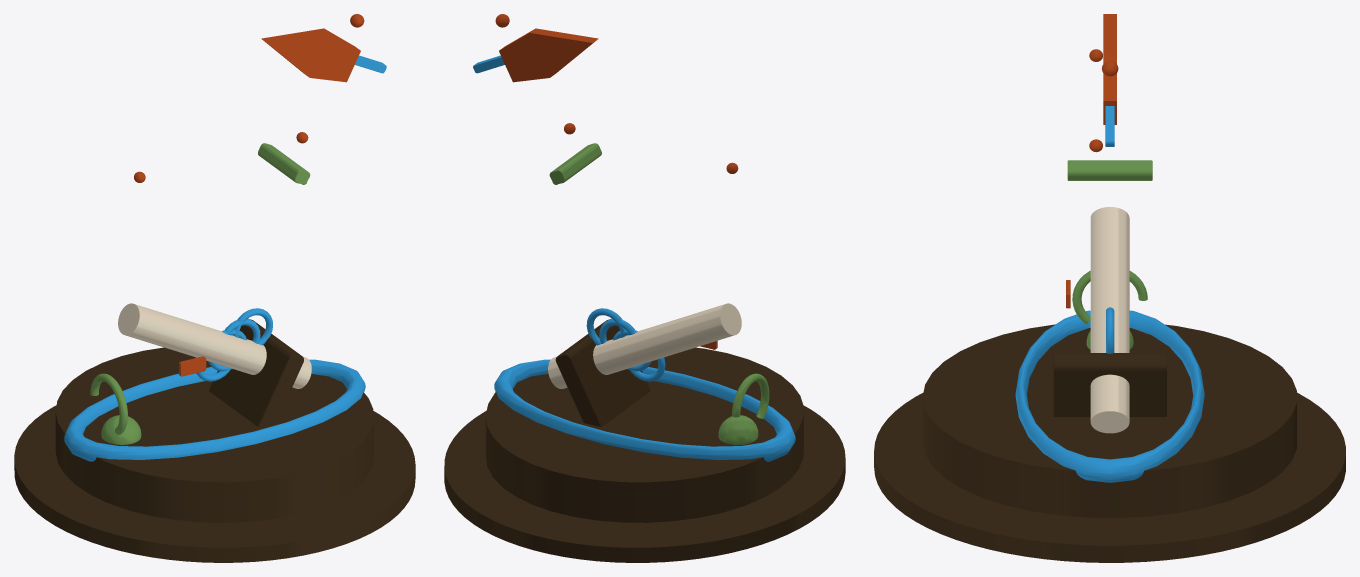
Rendered from 0924_秦汉图鉴_环首刀.glb.
3 views of the same model, side by side, from view 1: azimuth 30°, elevation 25°; view 2: azimuth 150°, elevation 25°; view 3: azimuth 270°, elevation 25° (orthographic). The views are drawn at different scales.
Visible parts, largest first — view 1: card_0924; view 2: card_0924; view 3: card_0924.
Boxes of the visible parts, <box> form: card_0924: <box>14,14,415,562</box>; card_0924: <box>444,14,845,562</box>; card_0924: <box>874,14,1345,562</box>.
Bounding box in the file's own units: 0.8291 × 1 × 0.8687.
